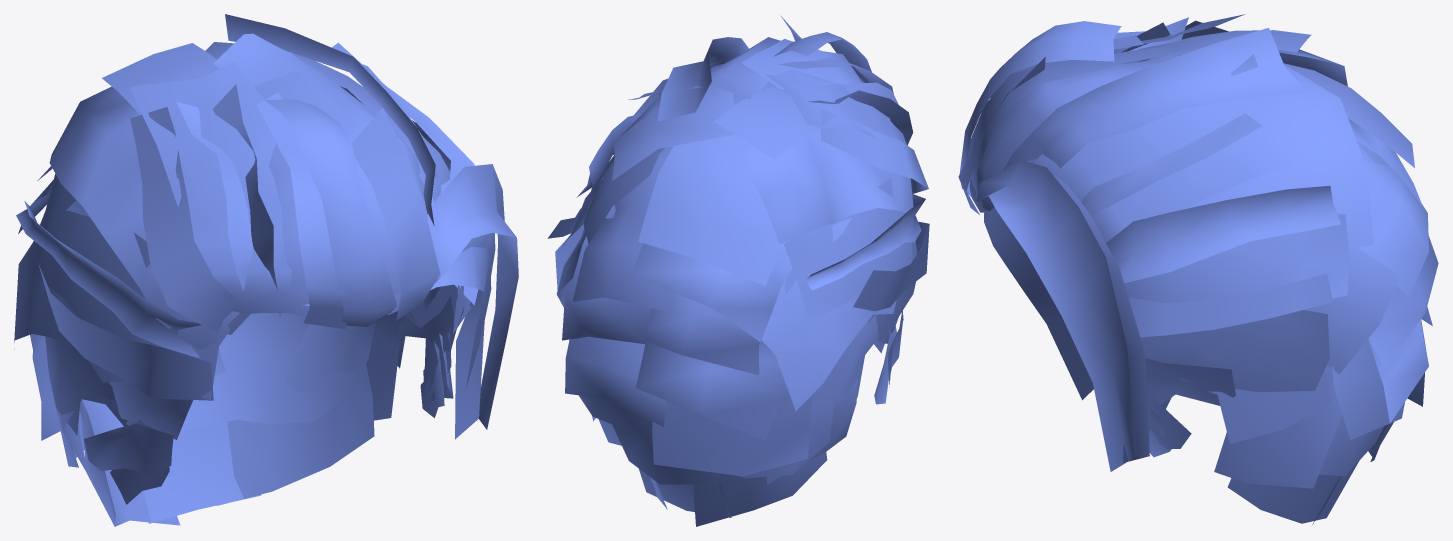
File: ManCarlos_default.fbx
3 renders of one model, left to right at view 1: azimuth 30°, elevation 25°; view 2: azimuth 150°, elevation 25°; view 3: azimuth 270°, elevation 25°, orthographic. The views are drawn at different scales.
Visible parts, largest first — view 1: ManCarlos_default_lod0; view 2: ManCarlos_default_lod0; view 3: ManCarlos_default_lod0.
Part boxes in pixels (bbox=[...]): ManCarlos_default_lod0: bbox=[14, 14, 518, 526]; ManCarlos_default_lod0: bbox=[547, 15, 929, 526]; ManCarlos_default_lod0: bbox=[958, 14, 1438, 524].
Size of what is drawn, in the model's own units: 19.94 by 24.85 by 22.06.
